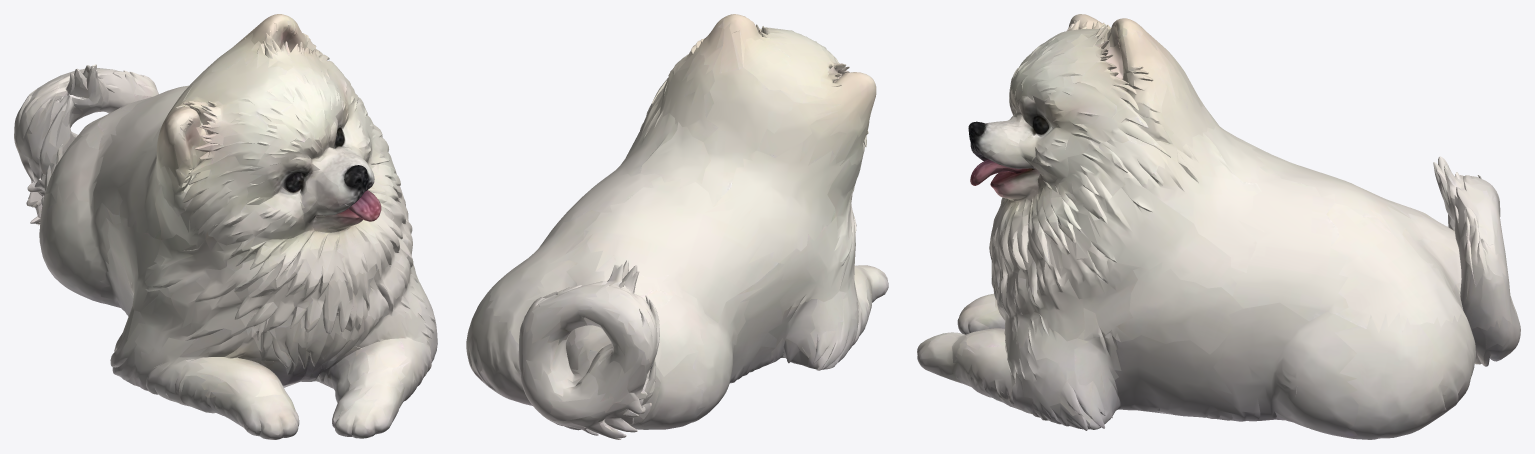
The model's file is 01a1e05c-064e-7060-b50b-ada94cfb2086.opt.glb.
3 renders of one model, left to right at view 1: azimuth 30°, elevation 25°; view 2: azimuth 150°, elevation 25°; view 3: azimuth 270°, elevation 25°, orthographic. The views are drawn at different scales.
Bounding box in the file's own units: 1.13 × 1.2 × 1.9.
Materials: 1 (1 with a texture image).
